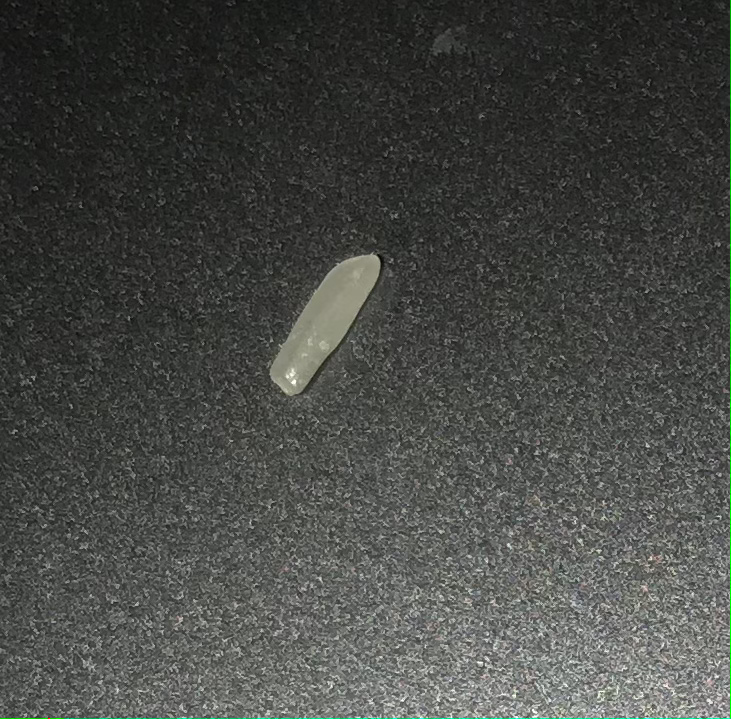Gao Long Lai: (265, 235, 390, 421)
